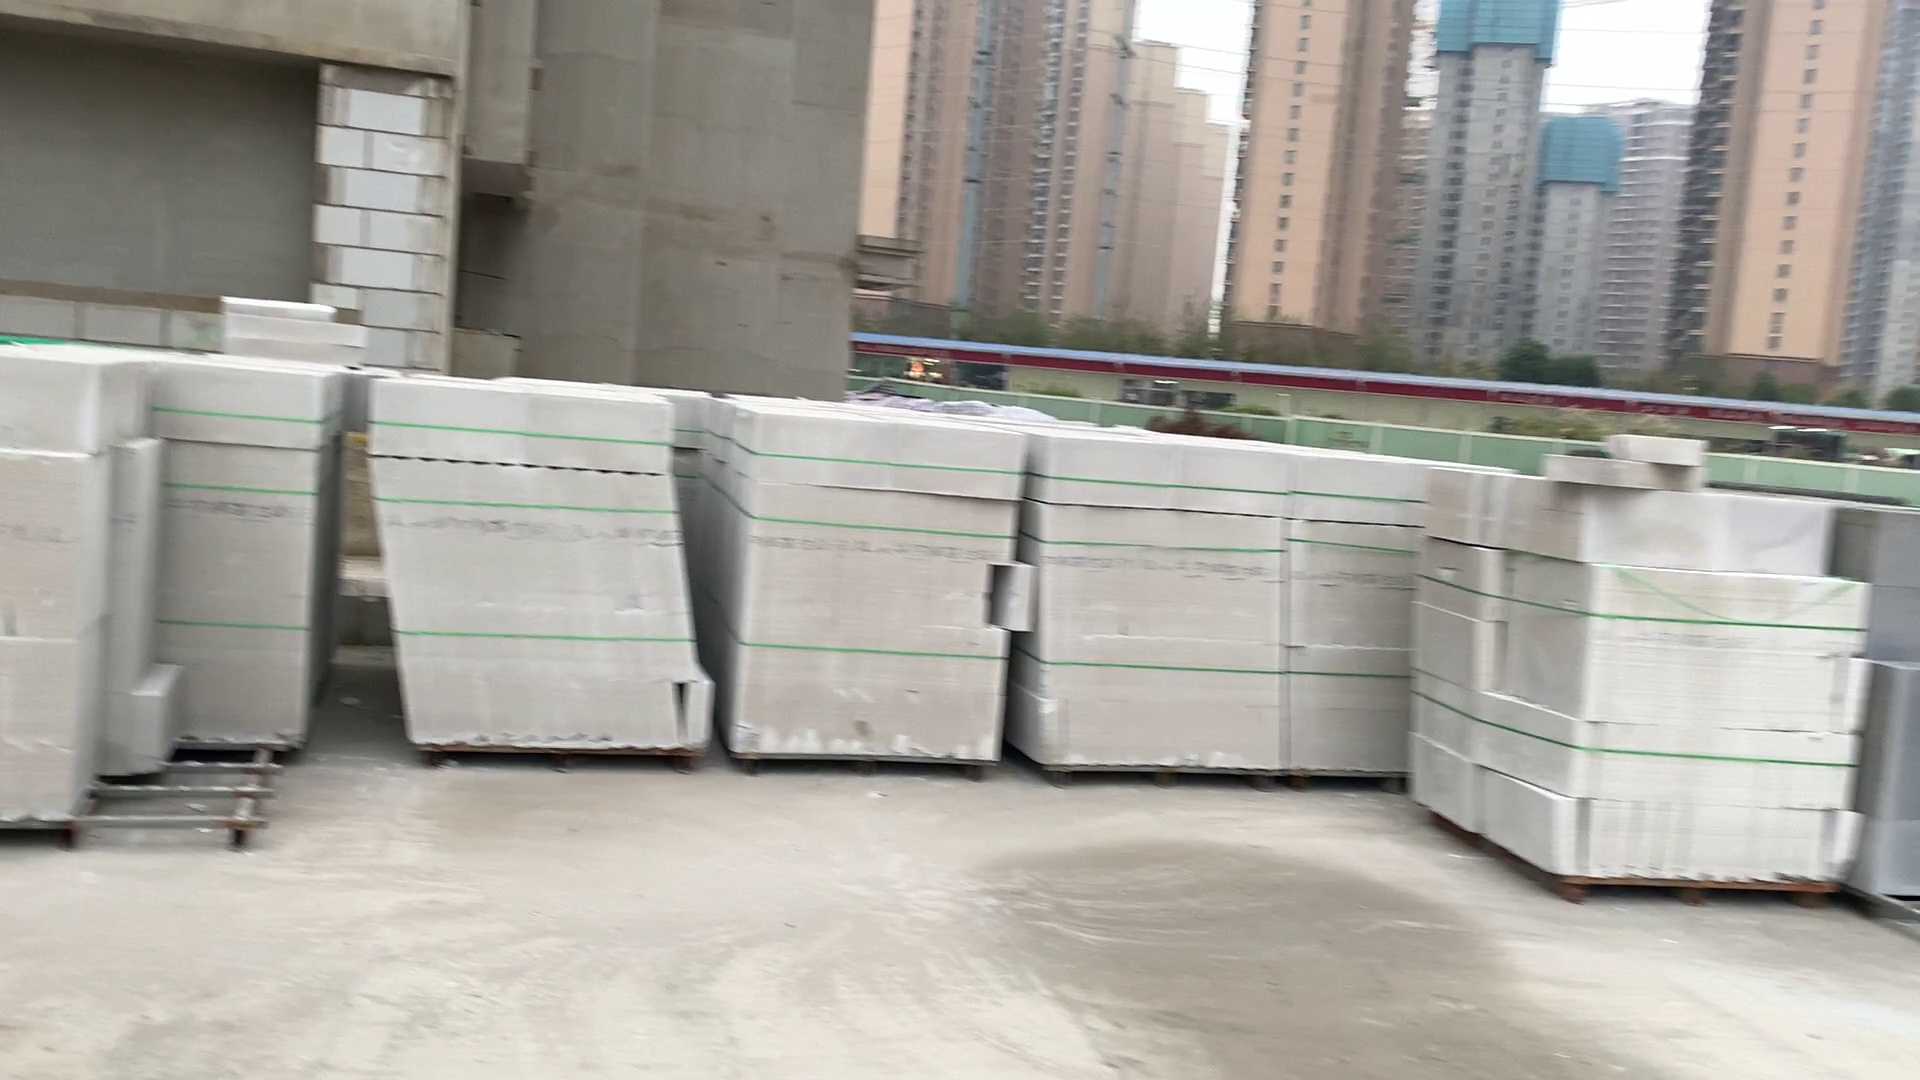brickwork: (1427, 440, 1859, 887), (7, 352, 324, 835), (360, 361, 713, 764), (729, 396, 1023, 775), (1026, 427, 1287, 775), (1288, 450, 1416, 785), (1850, 504, 1915, 899)
